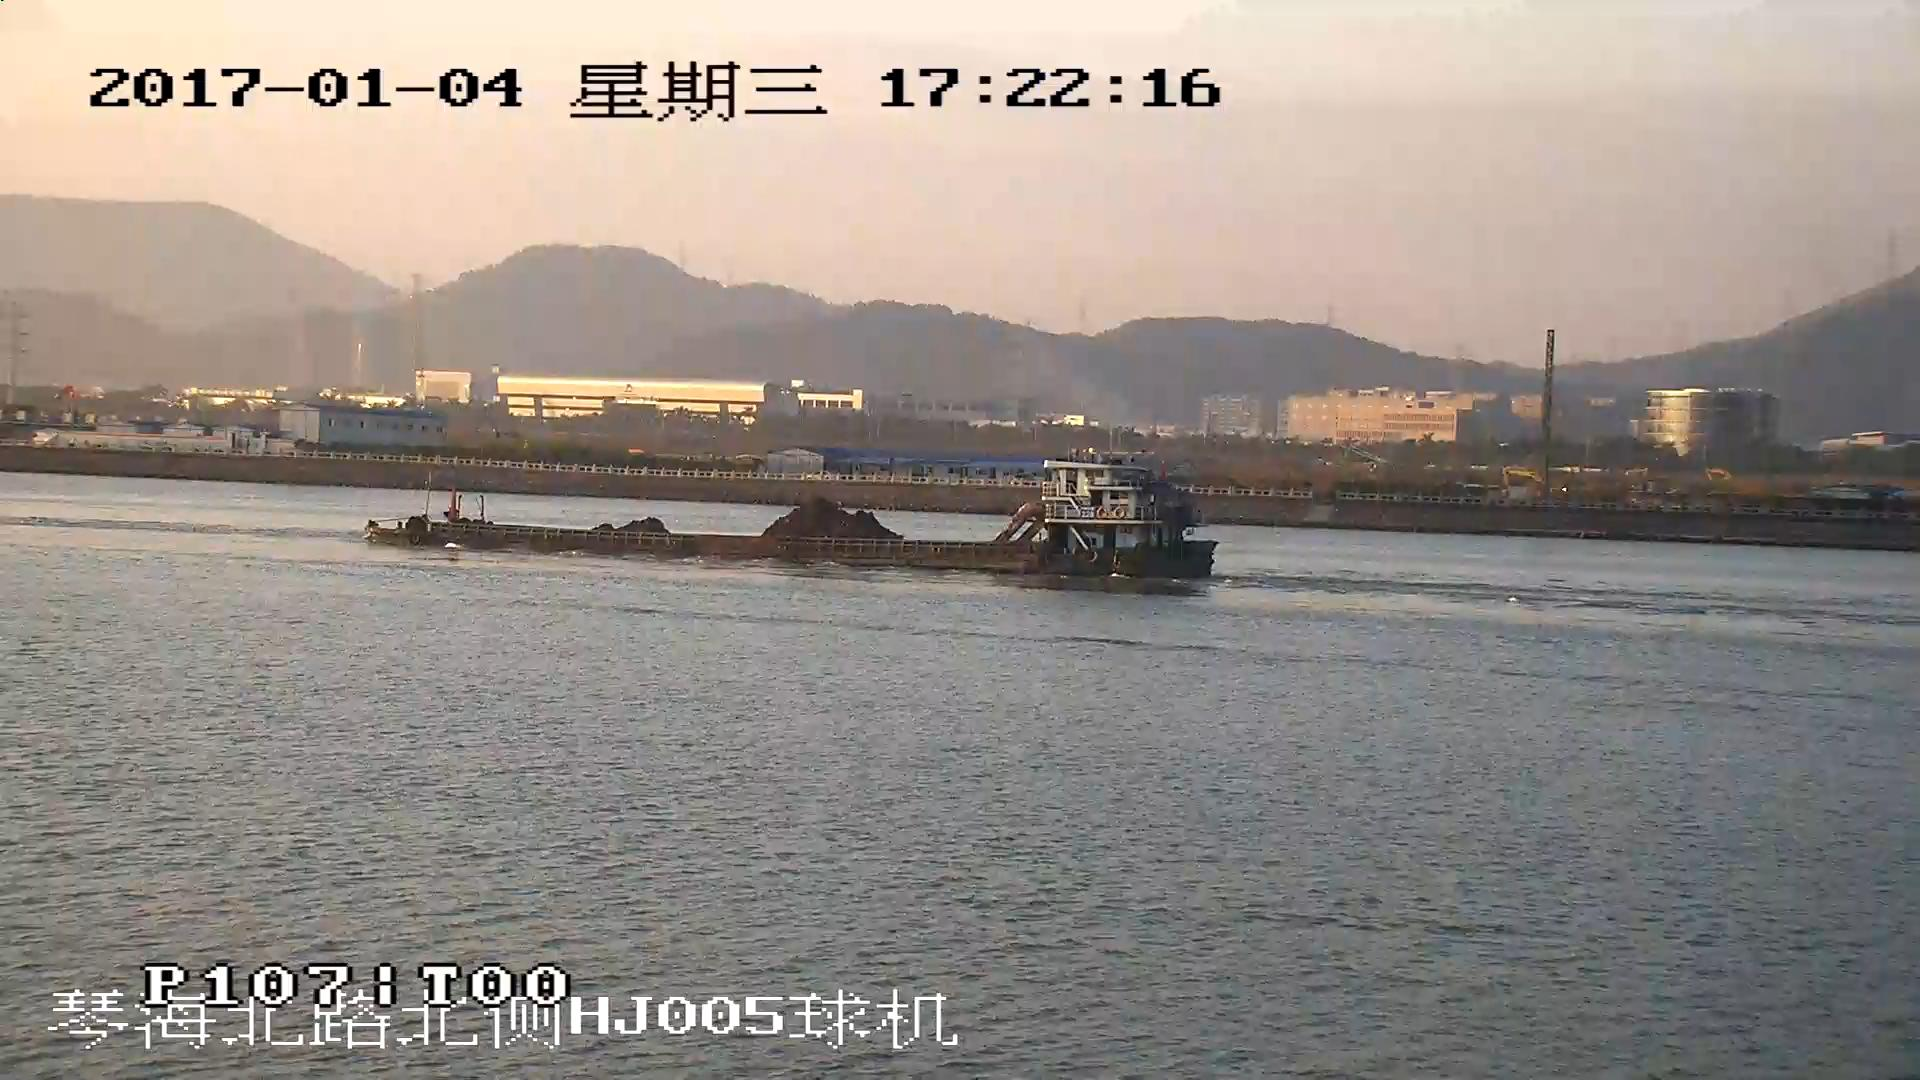ore carrier: (369, 461, 1217, 577)
